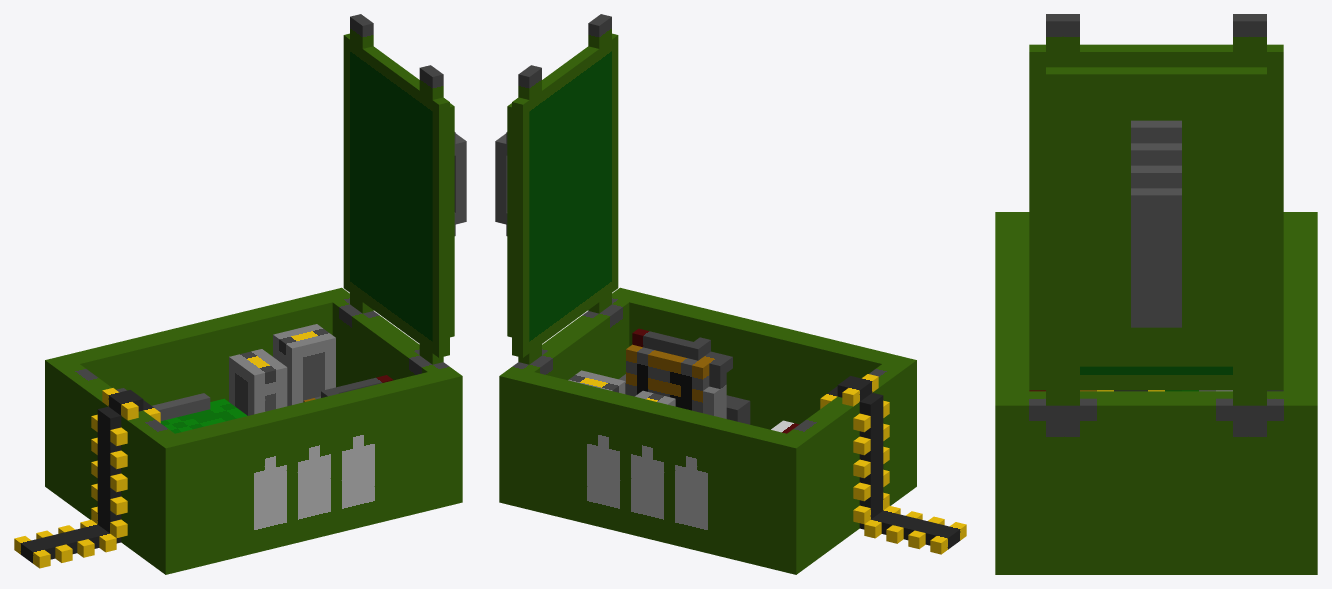
The model's file is Ammo_Box.dae.
3 views of the same model, side by side, from view 1: azimuth 30°, elevation 25°; view 2: azimuth 150°, elevation 25°; view 3: azimuth 270°, elevation 25° (orthographic). The views are drawn at different scales.
Parts seen in each view (by area): view 1: Ammo_Box; view 2: Ammo_Box; view 3: Ammo_Box.
Part boxes in pixels (x1,y1,x2,y2): Ammo_Box: (14, 14, 466, 574); Ammo_Box: (495, 14, 966, 574); Ammo_Box: (995, 14, 1317, 574).
Size of the model in its own units: 4 by 1.9 by 3.6.
1 material, 1 textured.
